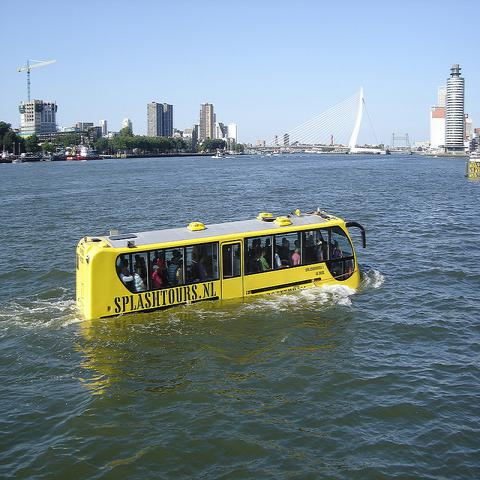bus: (76, 206, 369, 328)
